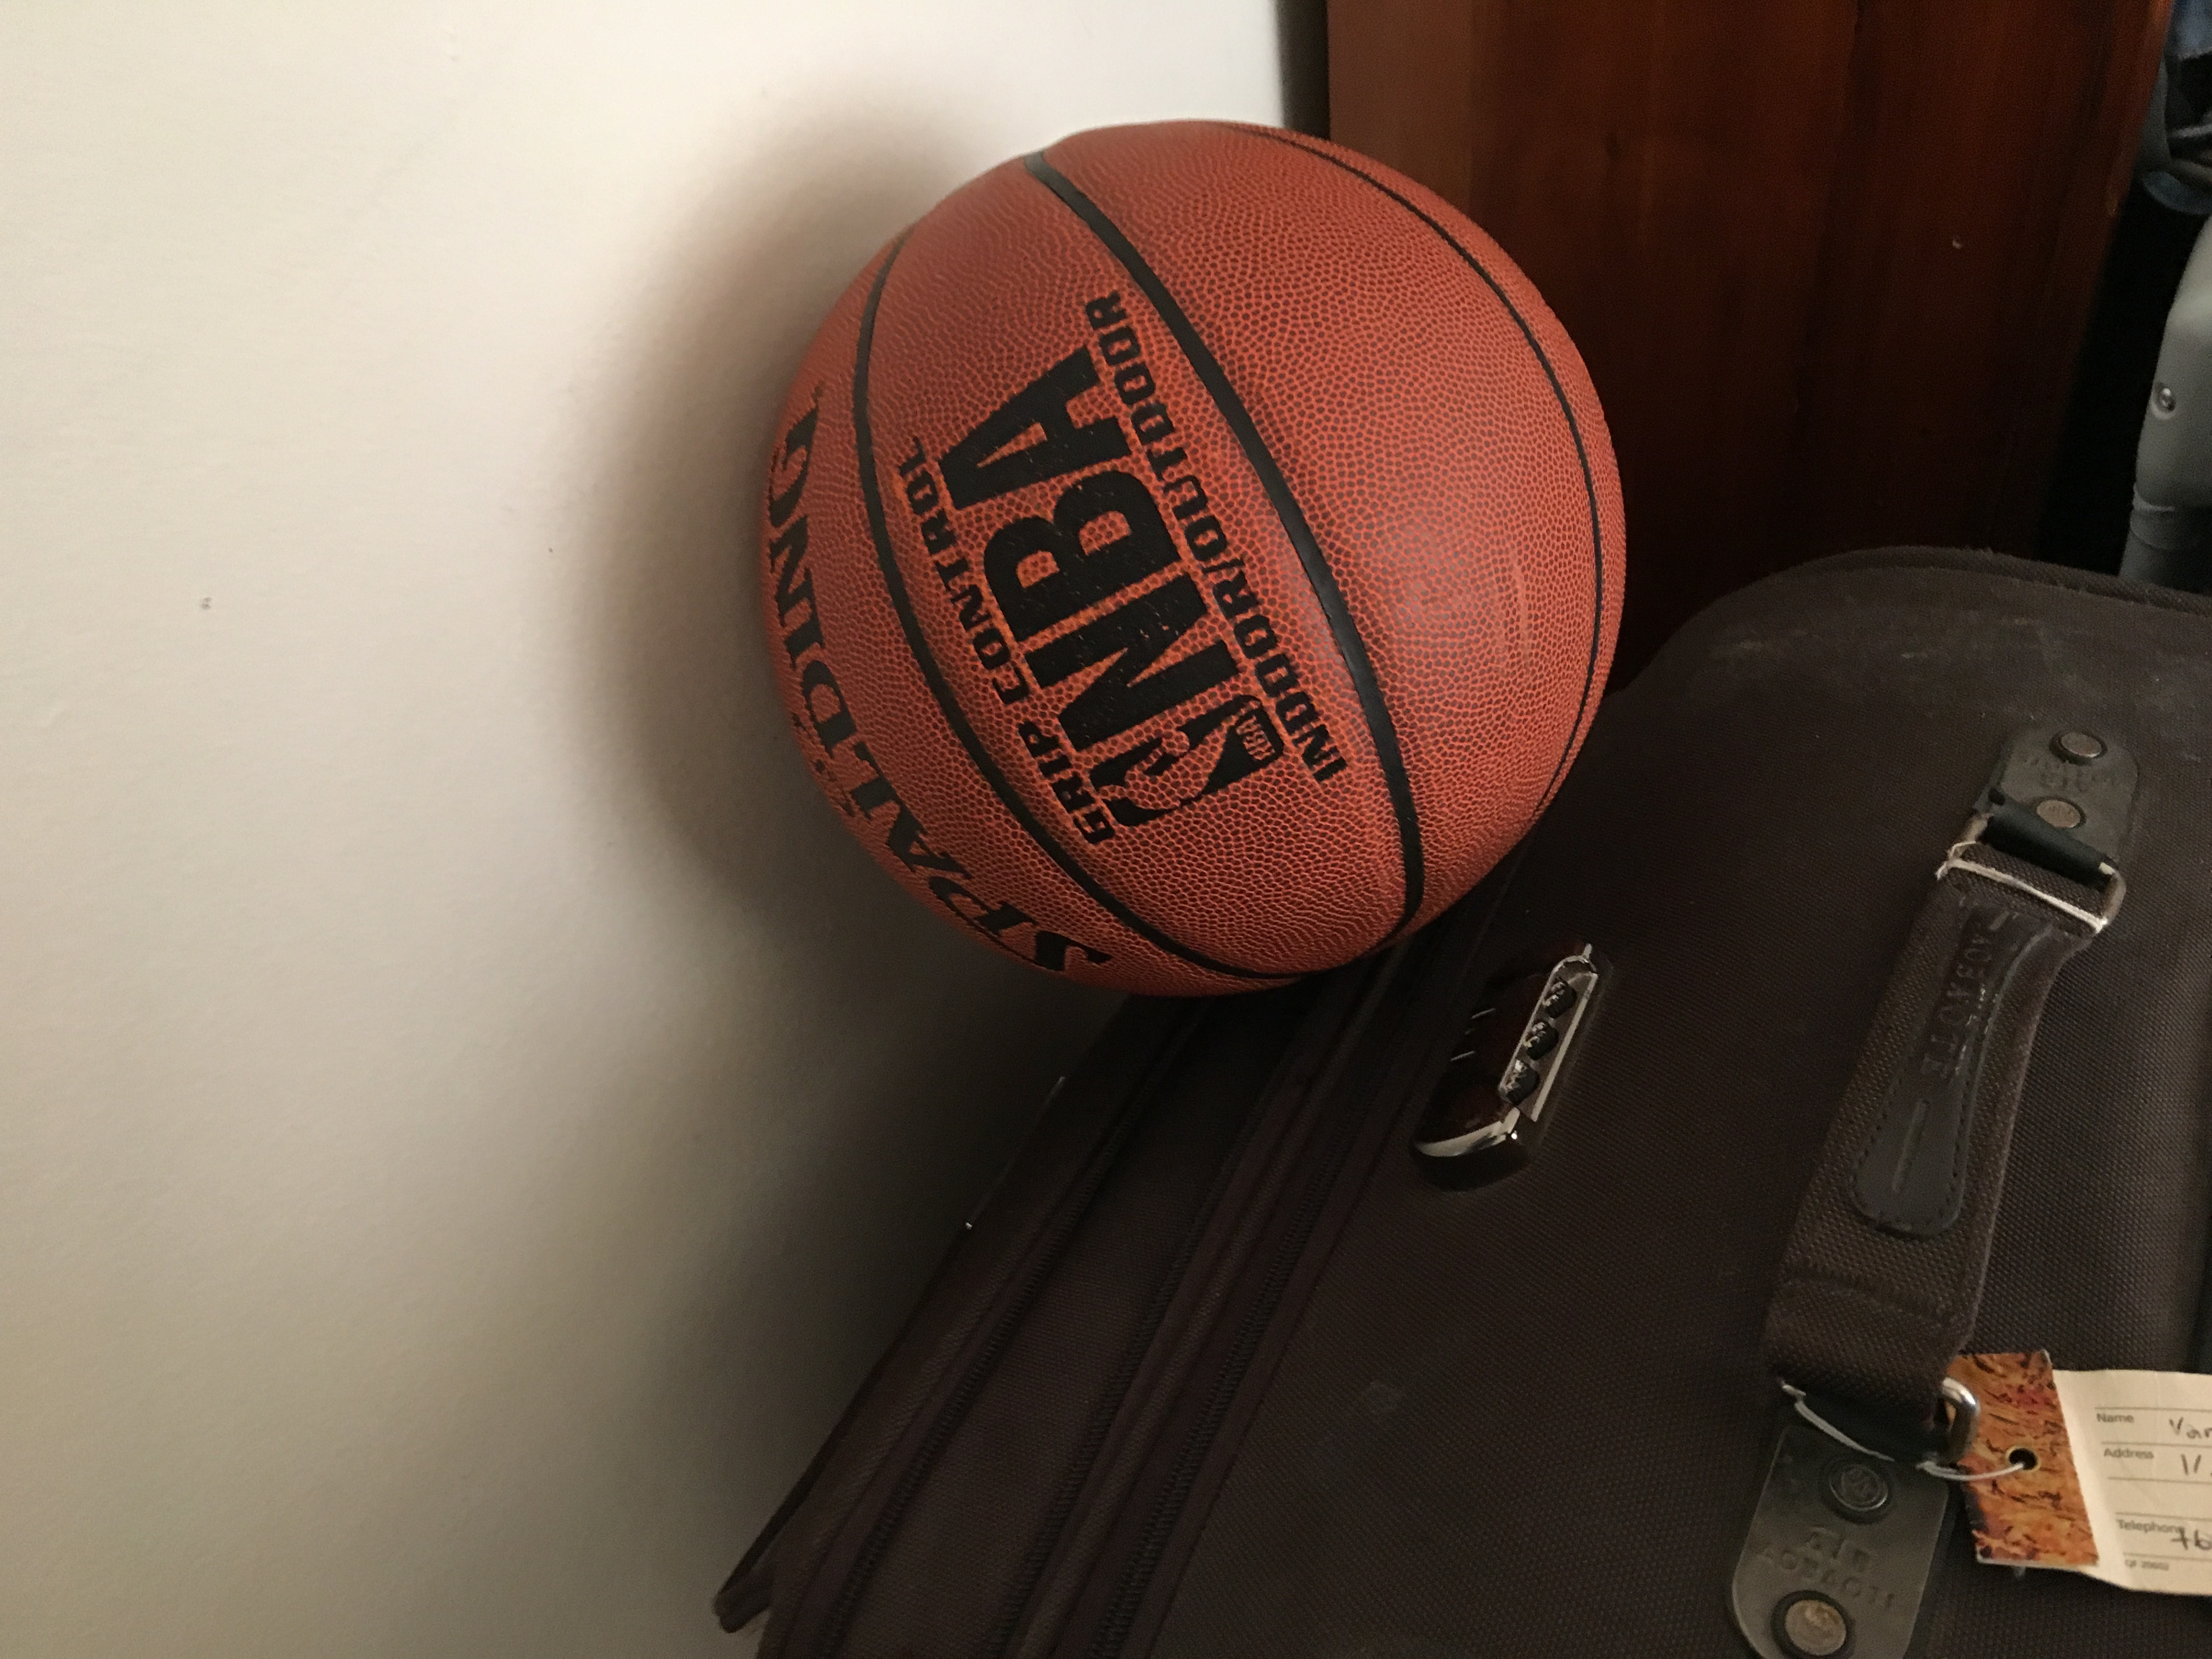Basketball: (725, 105, 1651, 1007)
